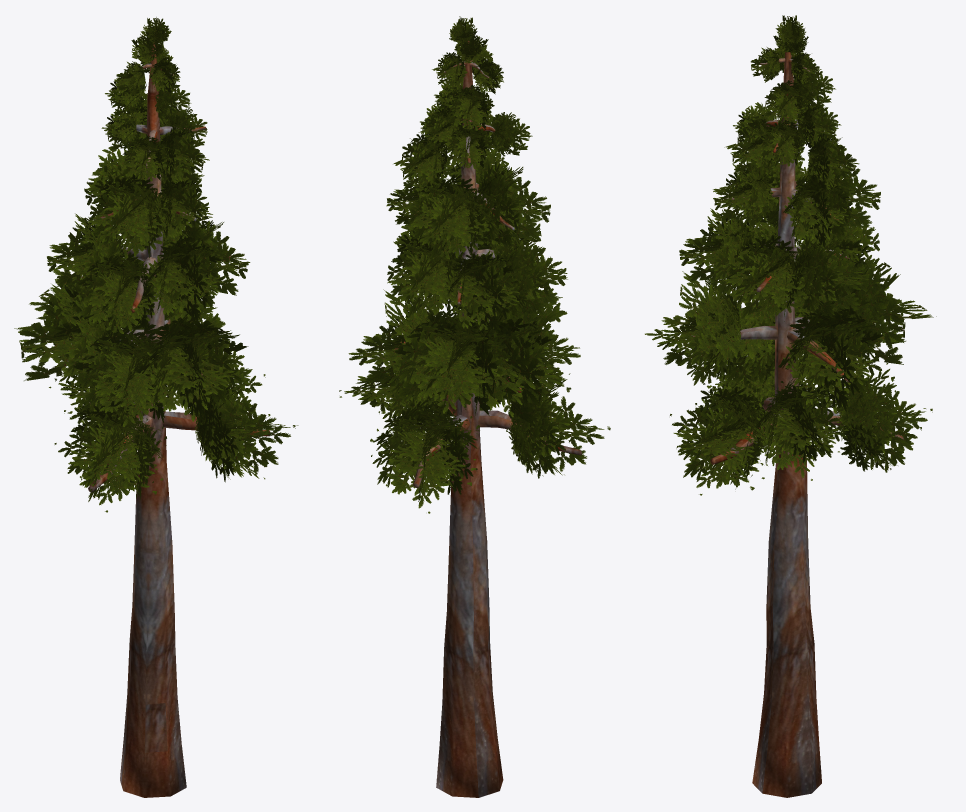
Rendered from redwood_tree.obj.
3 renders of one model, left to right at view 1: azimuth 30°, elevation 25°; view 2: azimuth 150°, elevation 25°; view 3: azimuth 270°, elevation 25°, orthographic.
Visible parts, largest first — view 1: Object_6, Object_4; view 2: Object_6, Object_4; view 3: Object_6, Object_4.
Boxes of the visible parts, x1,y1,x2,y2 form: Object_6: (14,17,298,512); Object_4: (64,42,270,797); Object_6: (339,16,610,513); Object_4: (383,41,581,797); Object_6: (645,15,936,495); Object_4: (693,52,903,797).
Size of the model in its own units: 8.29 by 24.29 by 8.87.
2 materials, 2 textured.
